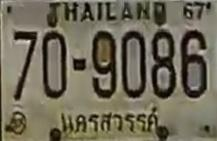0: (121, 30, 146, 97), (42, 30, 66, 98)
6: (180, 29, 206, 97)
7: (12, 30, 36, 100)
8: (150, 30, 176, 98)
9: (91, 30, 116, 97)
NSN: (57, 105, 158, 134)
